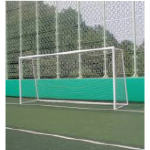goals: (16, 44, 132, 116)
